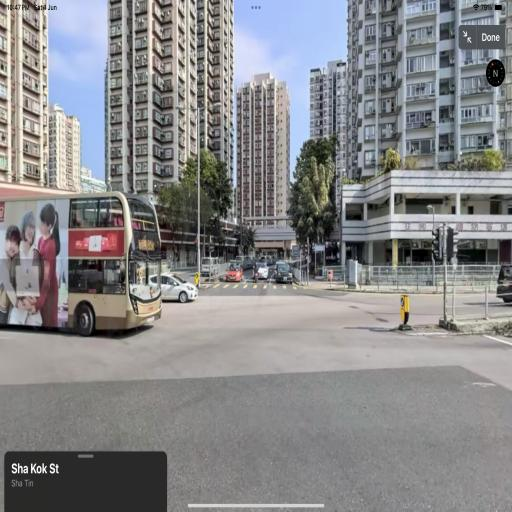Roads: (6, 261, 504, 487)
Trees: (285, 125, 348, 288)
